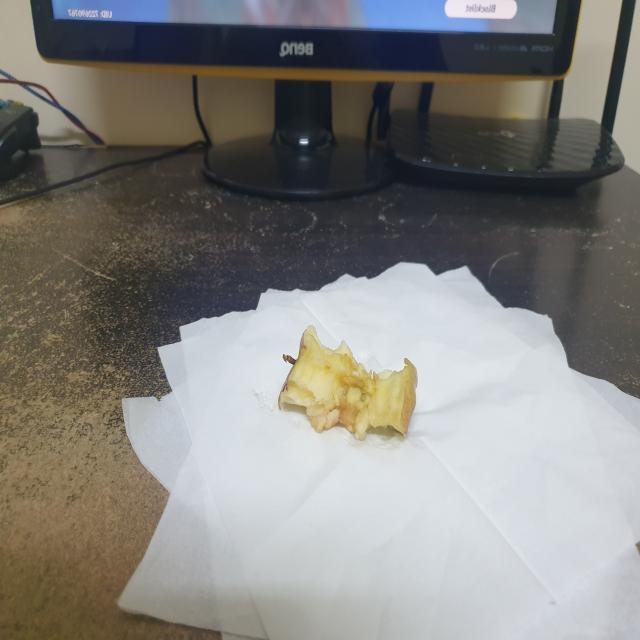apple: (276, 322, 420, 445)
